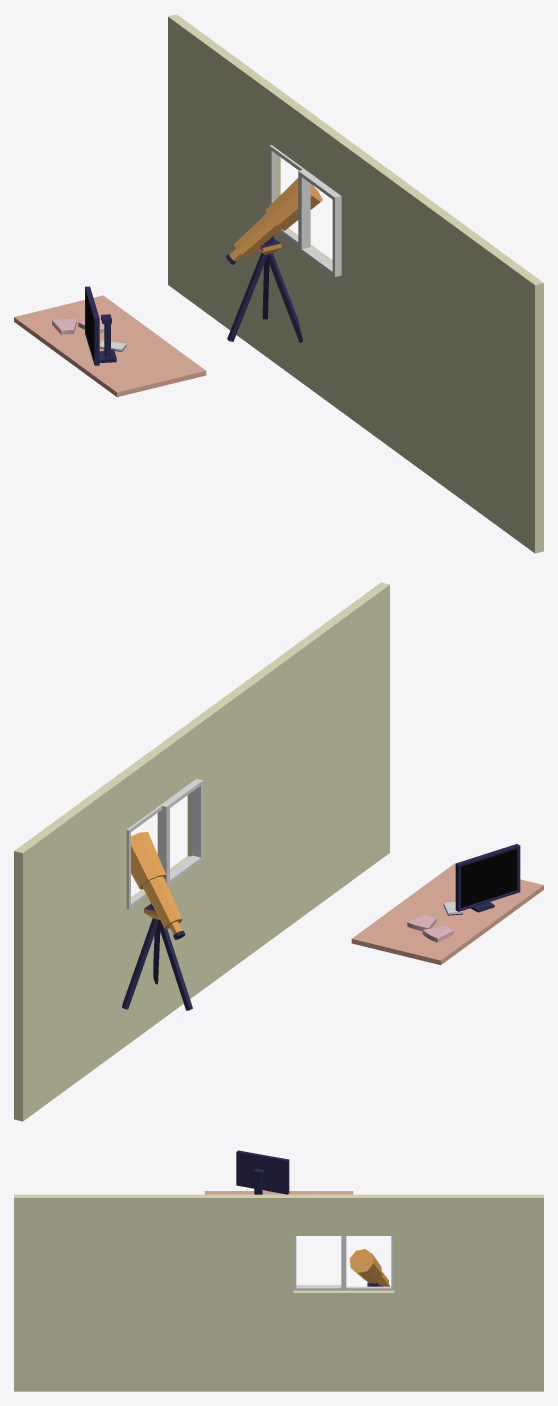
Rendered from level.fbx.
The picture shows the model from 3 angles, top to bottom: view 1: azimuth 30°, elevation 25°; view 2: azimuth 150°, elevation 25°; view 3: azimuth 270°, elevation 25°; orthographic projection. The views are drawn at different scales.
Visible parts, largest first — view 1: wall, Table, Window, Telescope, MonitorScreen, leg_02, leg_01; view 2: wall, Table, MonitorScreen, Window, Telescope, leg_03, leg_02; view 3: wall, MonitorScreen, Window, Telescope, Table.
Part boxes in pixels (x1,y1,x2,y2): wall: [168, 14, 543, 553]; Table: [14, 295, 206, 396]; Window: [269, 145, 341, 276]; Telescope: [225, 178, 322, 264]; MonitorScreen: [85, 286, 99, 365]; leg_02: [227, 252, 266, 341]; leg_01: [267, 253, 302, 342]; wall: [14, 582, 389, 1121]; Table: [351, 863, 543, 964]; MonitorScreen: [455, 844, 520, 911]; Window: [126, 778, 202, 909]; Telescope: [131, 832, 185, 939]; leg_03: [122, 918, 157, 1009]; leg_02: [158, 919, 192, 1010]; wall: [14, 1194, 543, 1391]; MonitorScreen: [236, 1150, 289, 1194]; Window: [293, 1235, 394, 1290]; Telescope: [349, 1249, 389, 1286]; Table: [204, 1191, 353, 1194].
Bounding box in the file's own units: 703 × 574 × 1425.
